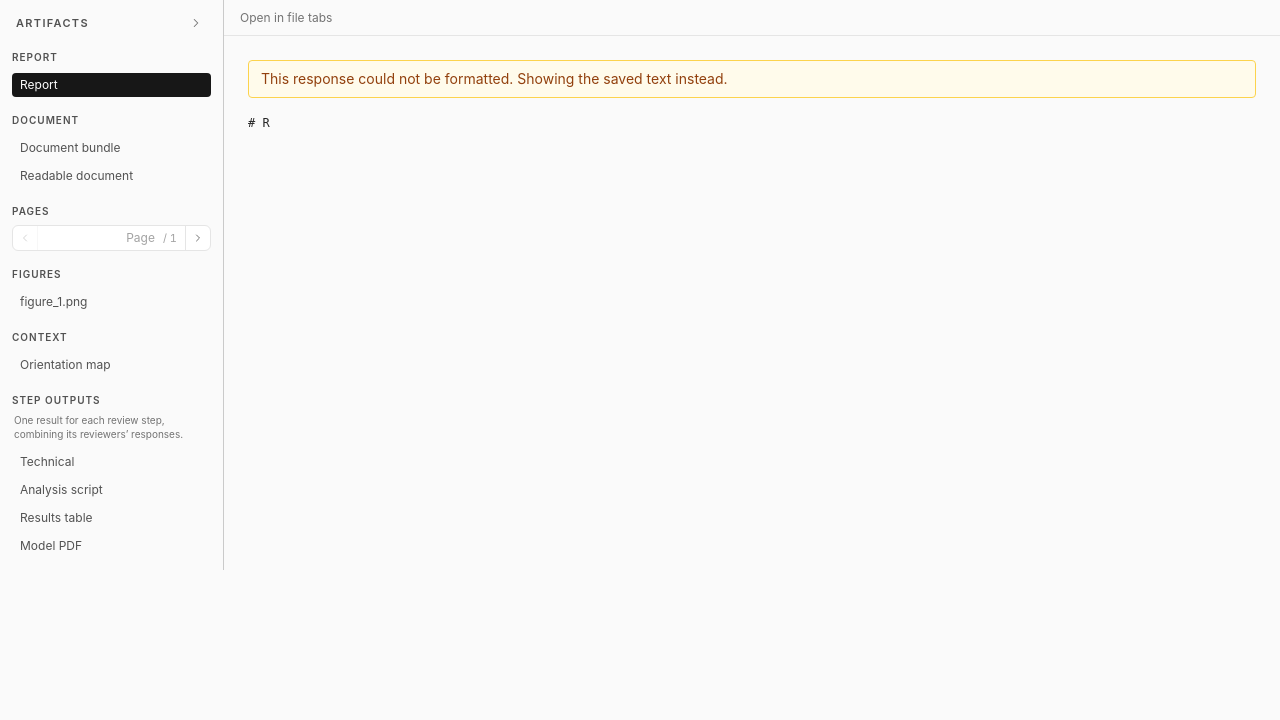
Test: ArtifactExplorer › renders code artifacts with syntax highlighting
The width and height of the screenshot is (1280, 720).
Click the button "Analysis script" at (112, 490), box [12,478,211,502]
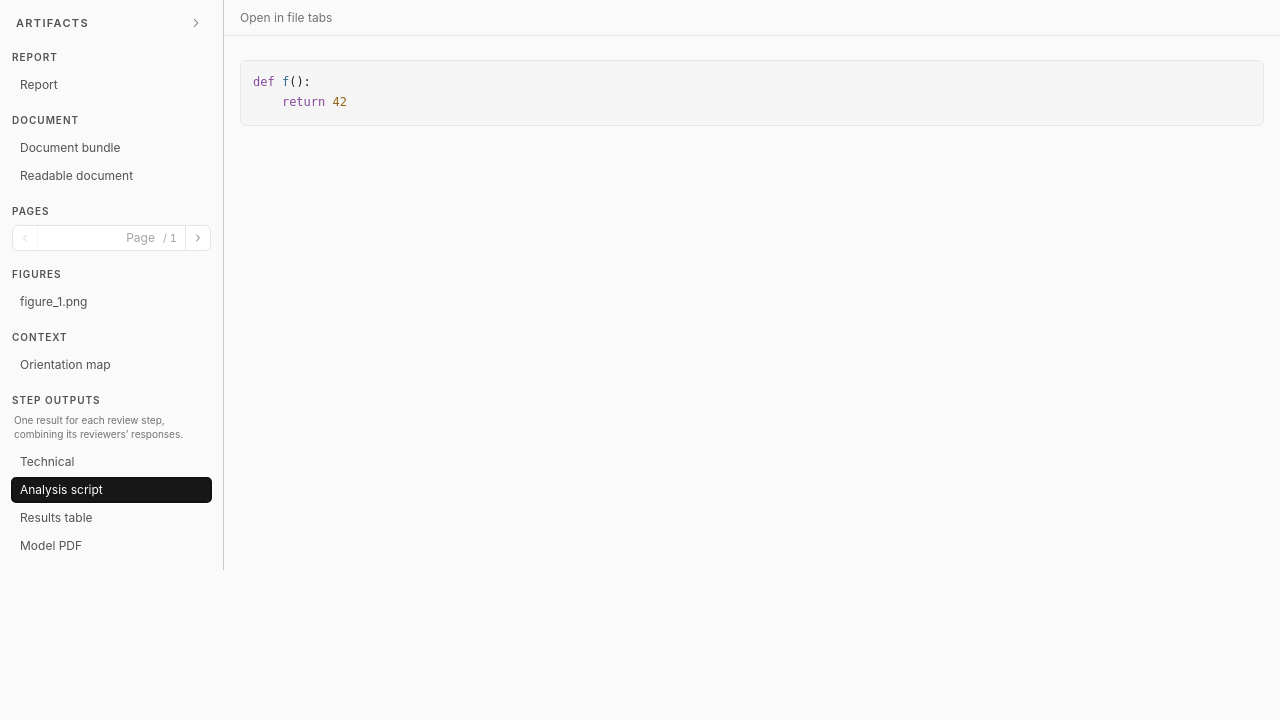
Result: the element showing "def f(): return 42" is shown at [253,75,347,109]
Result: the text "def" is shown at [253,75,275,89]
